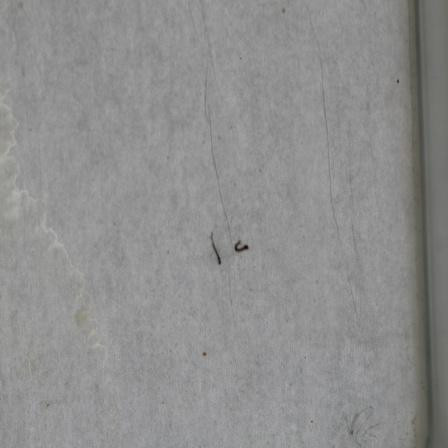Jentik-Nyamuk: (207, 228, 225, 271), (232, 238, 251, 257)
